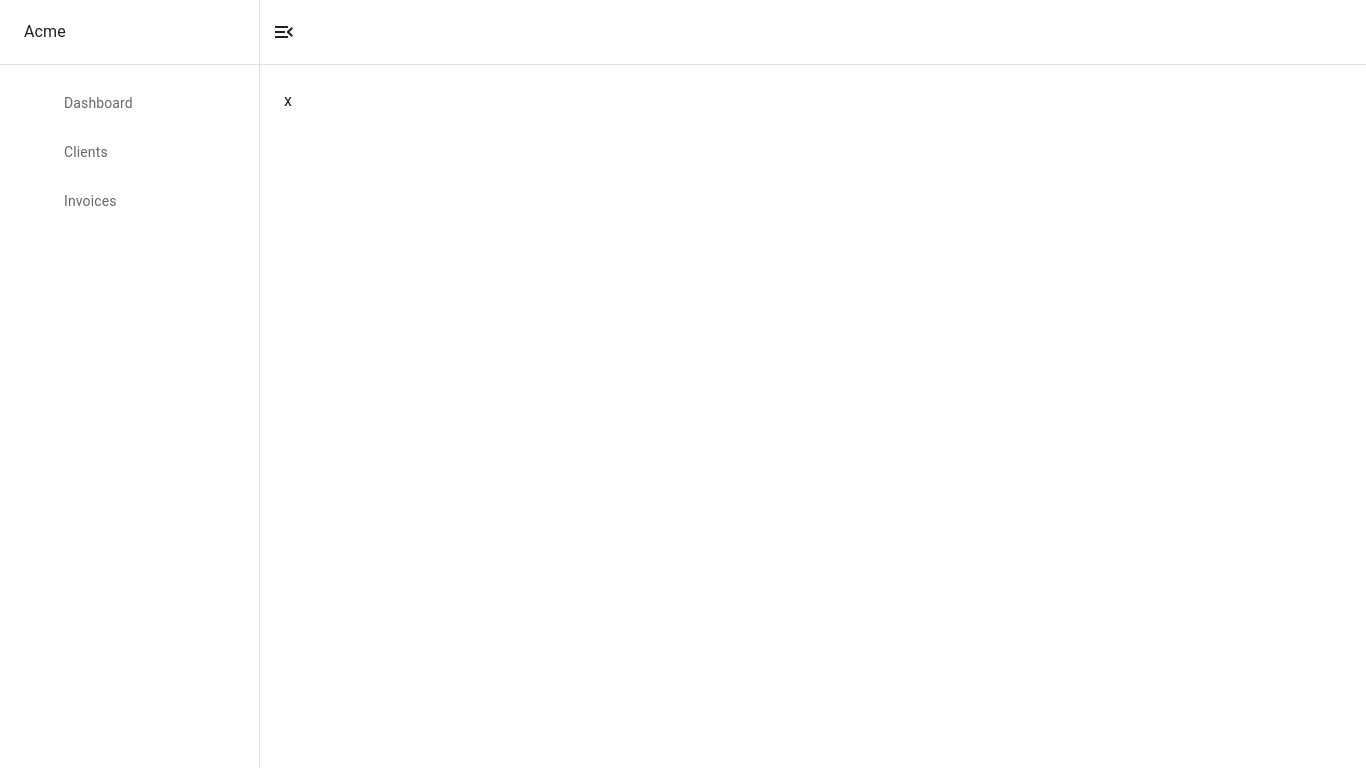
Scenario: <AppShell> › collapses the sidebar to an icon rail with labelled items
Check: the text "Clients" is shown, box [64,144,108,160]
Check: the text "Acme" is shown, box [24,22,66,41]
Click the button named "Collapse sidebar" at (284, 32), box [264,12,304,52]
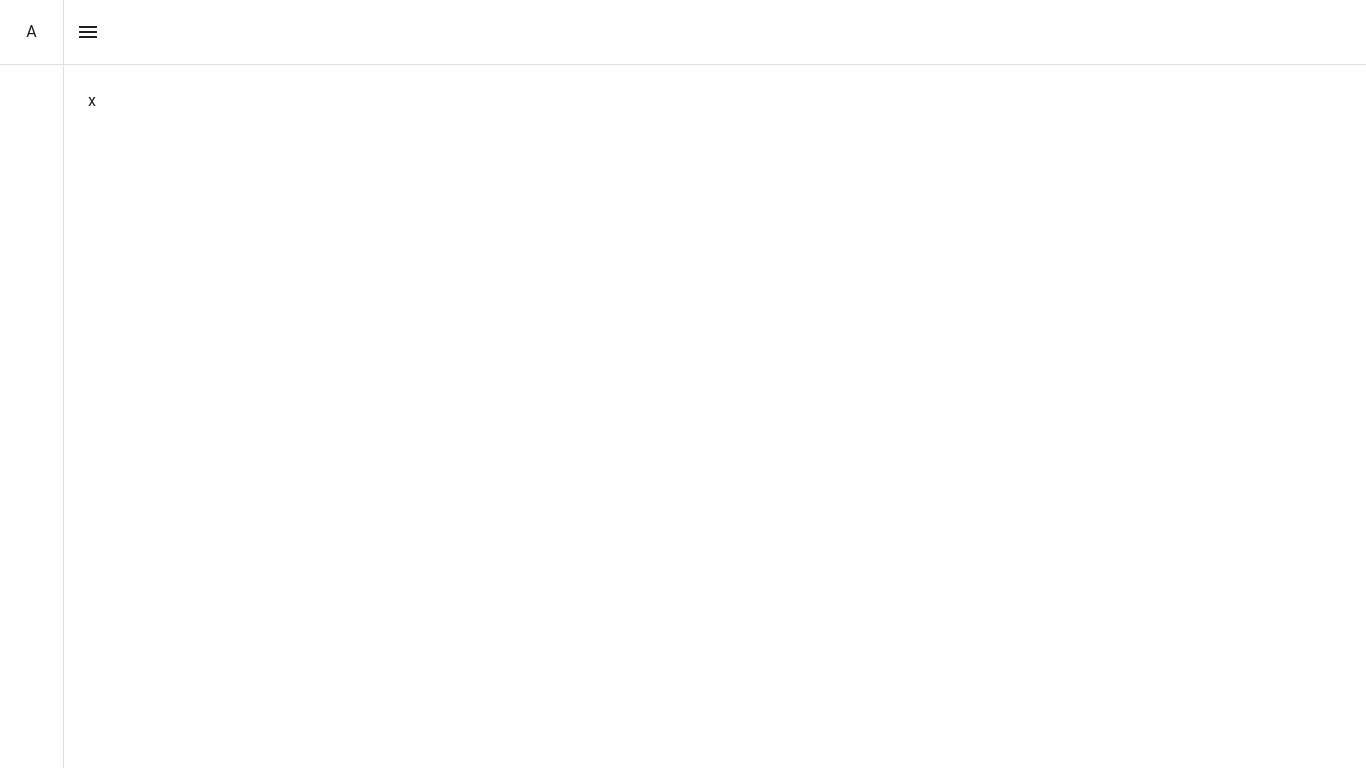
Check: the text "A" is shown, box [26,22,37,41]
Check: the text "Clients" is gone
Check: the text "Acme" is gone
Click the button named "Expand sidebar" at (88, 32), box [68,12,108,52]
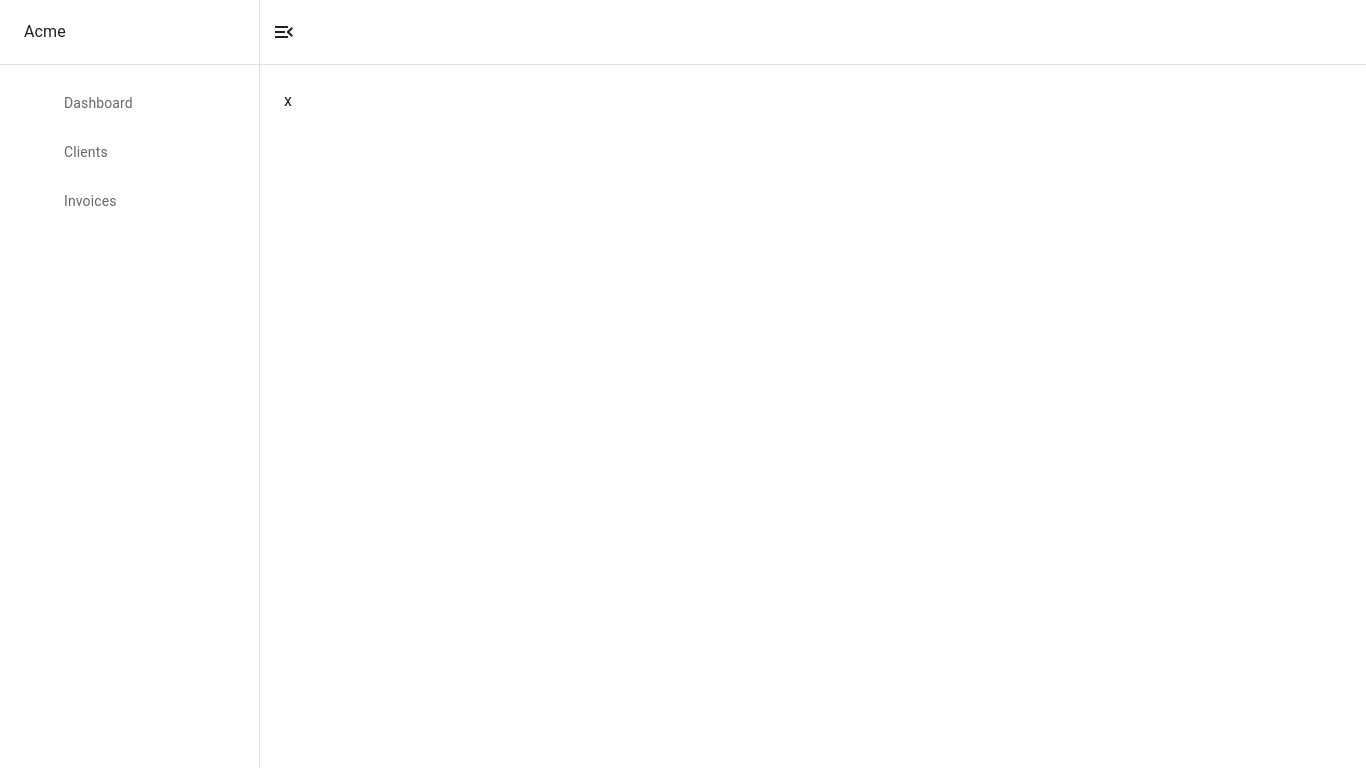
Check: the text "Clients" is shown, box [64,144,108,160]
